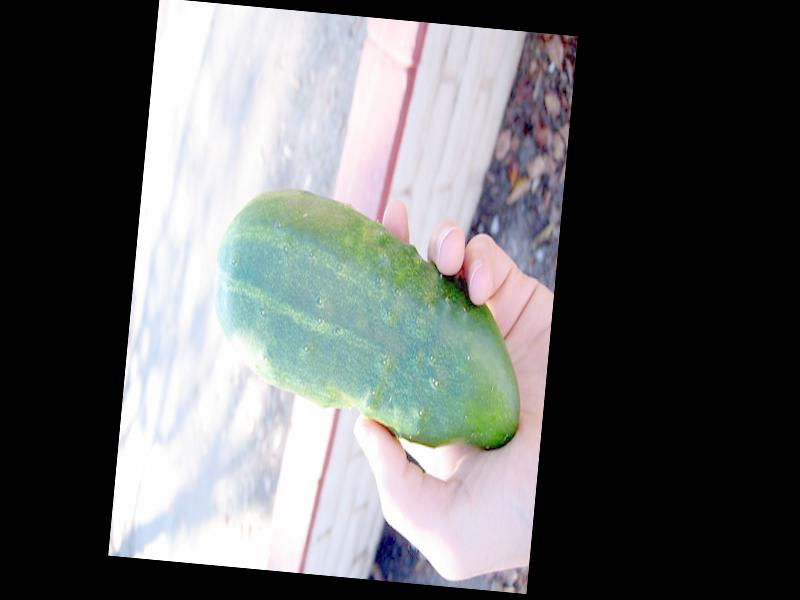Cucumber: (203, 180, 537, 453)
